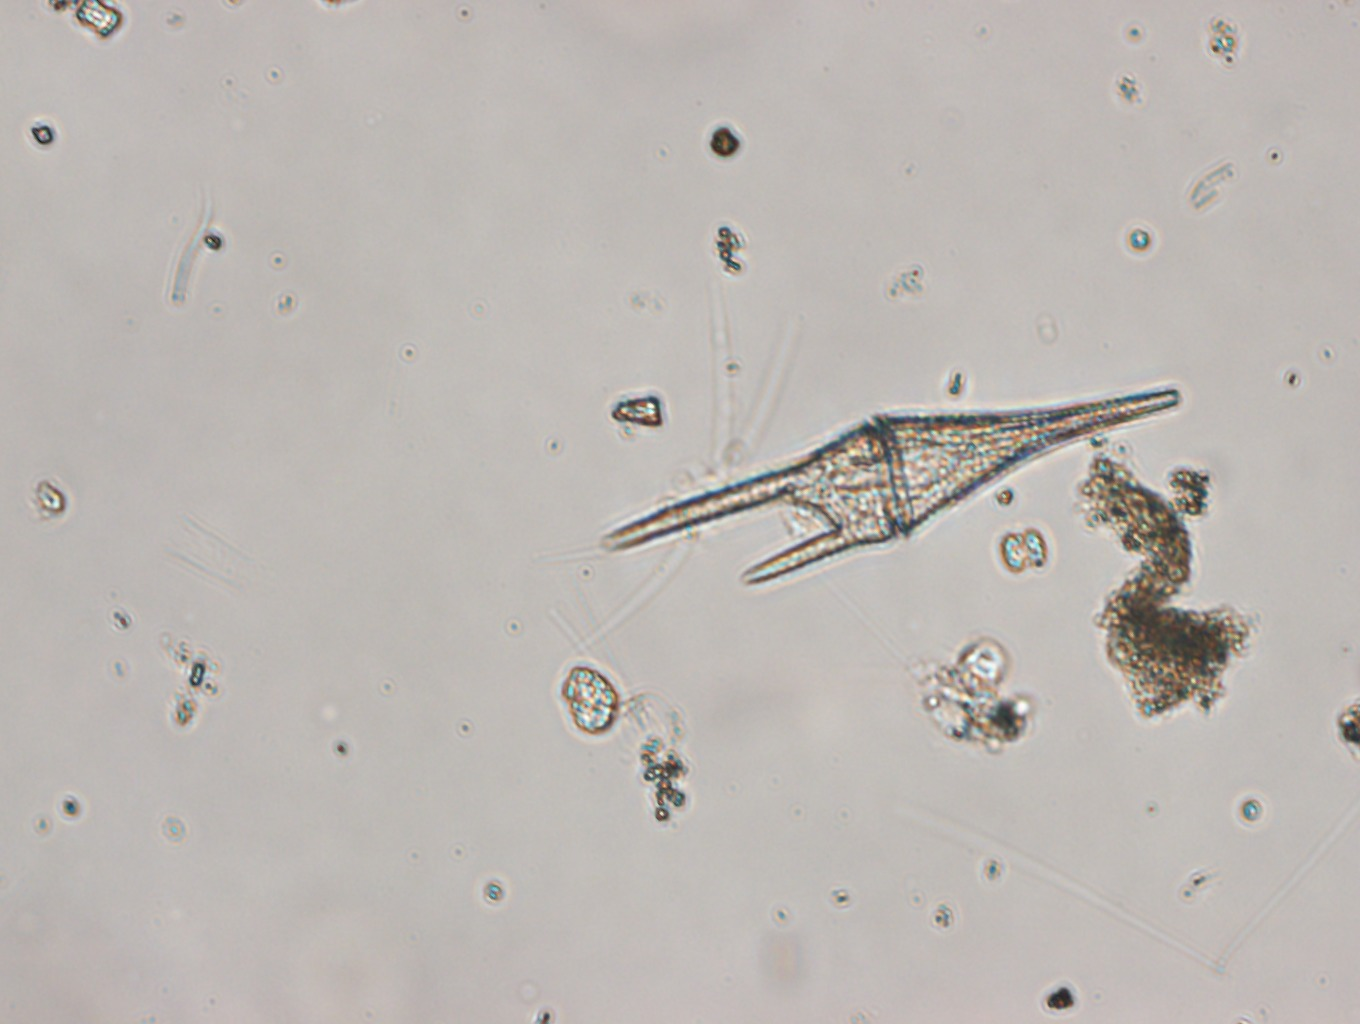ceratium furca: (595, 358, 1208, 591)
